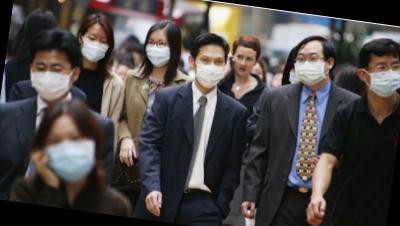with_mask: (38, 125, 98, 187), (26, 59, 75, 104), (290, 47, 331, 88), (367, 55, 400, 99), (191, 51, 228, 89), (79, 31, 112, 65), (143, 34, 173, 69)
without_mask: (232, 51, 257, 77)
